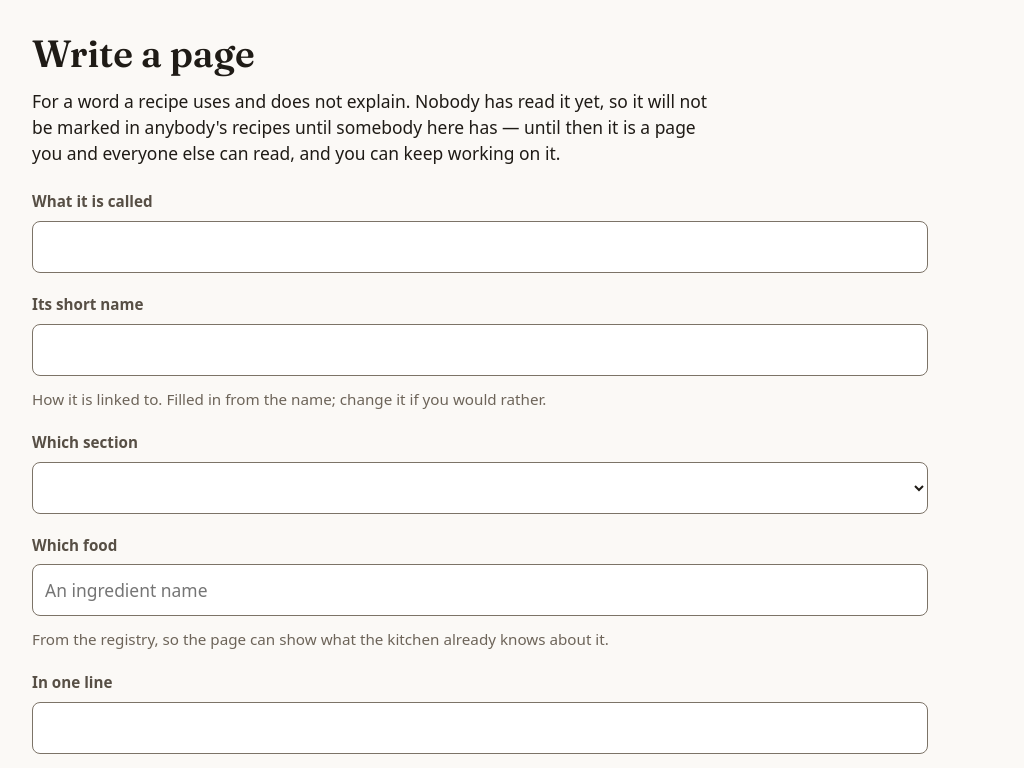
WritePageComponent › offers a slug based on the name, so nobody has to invent one
In the field with id "name": (480, 247) [32,221,928,273], type "Spatchcock a Chicken"
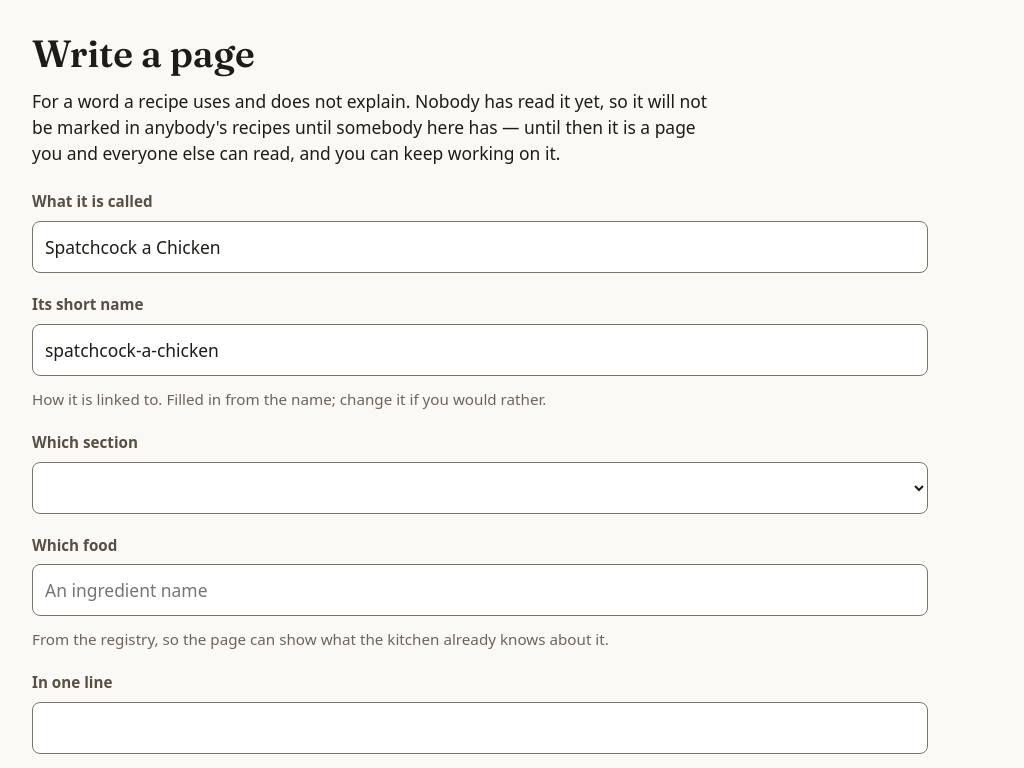
Result: the field with id "slug" holds "spatchcock-a-chicken" at [32,324,928,376]
